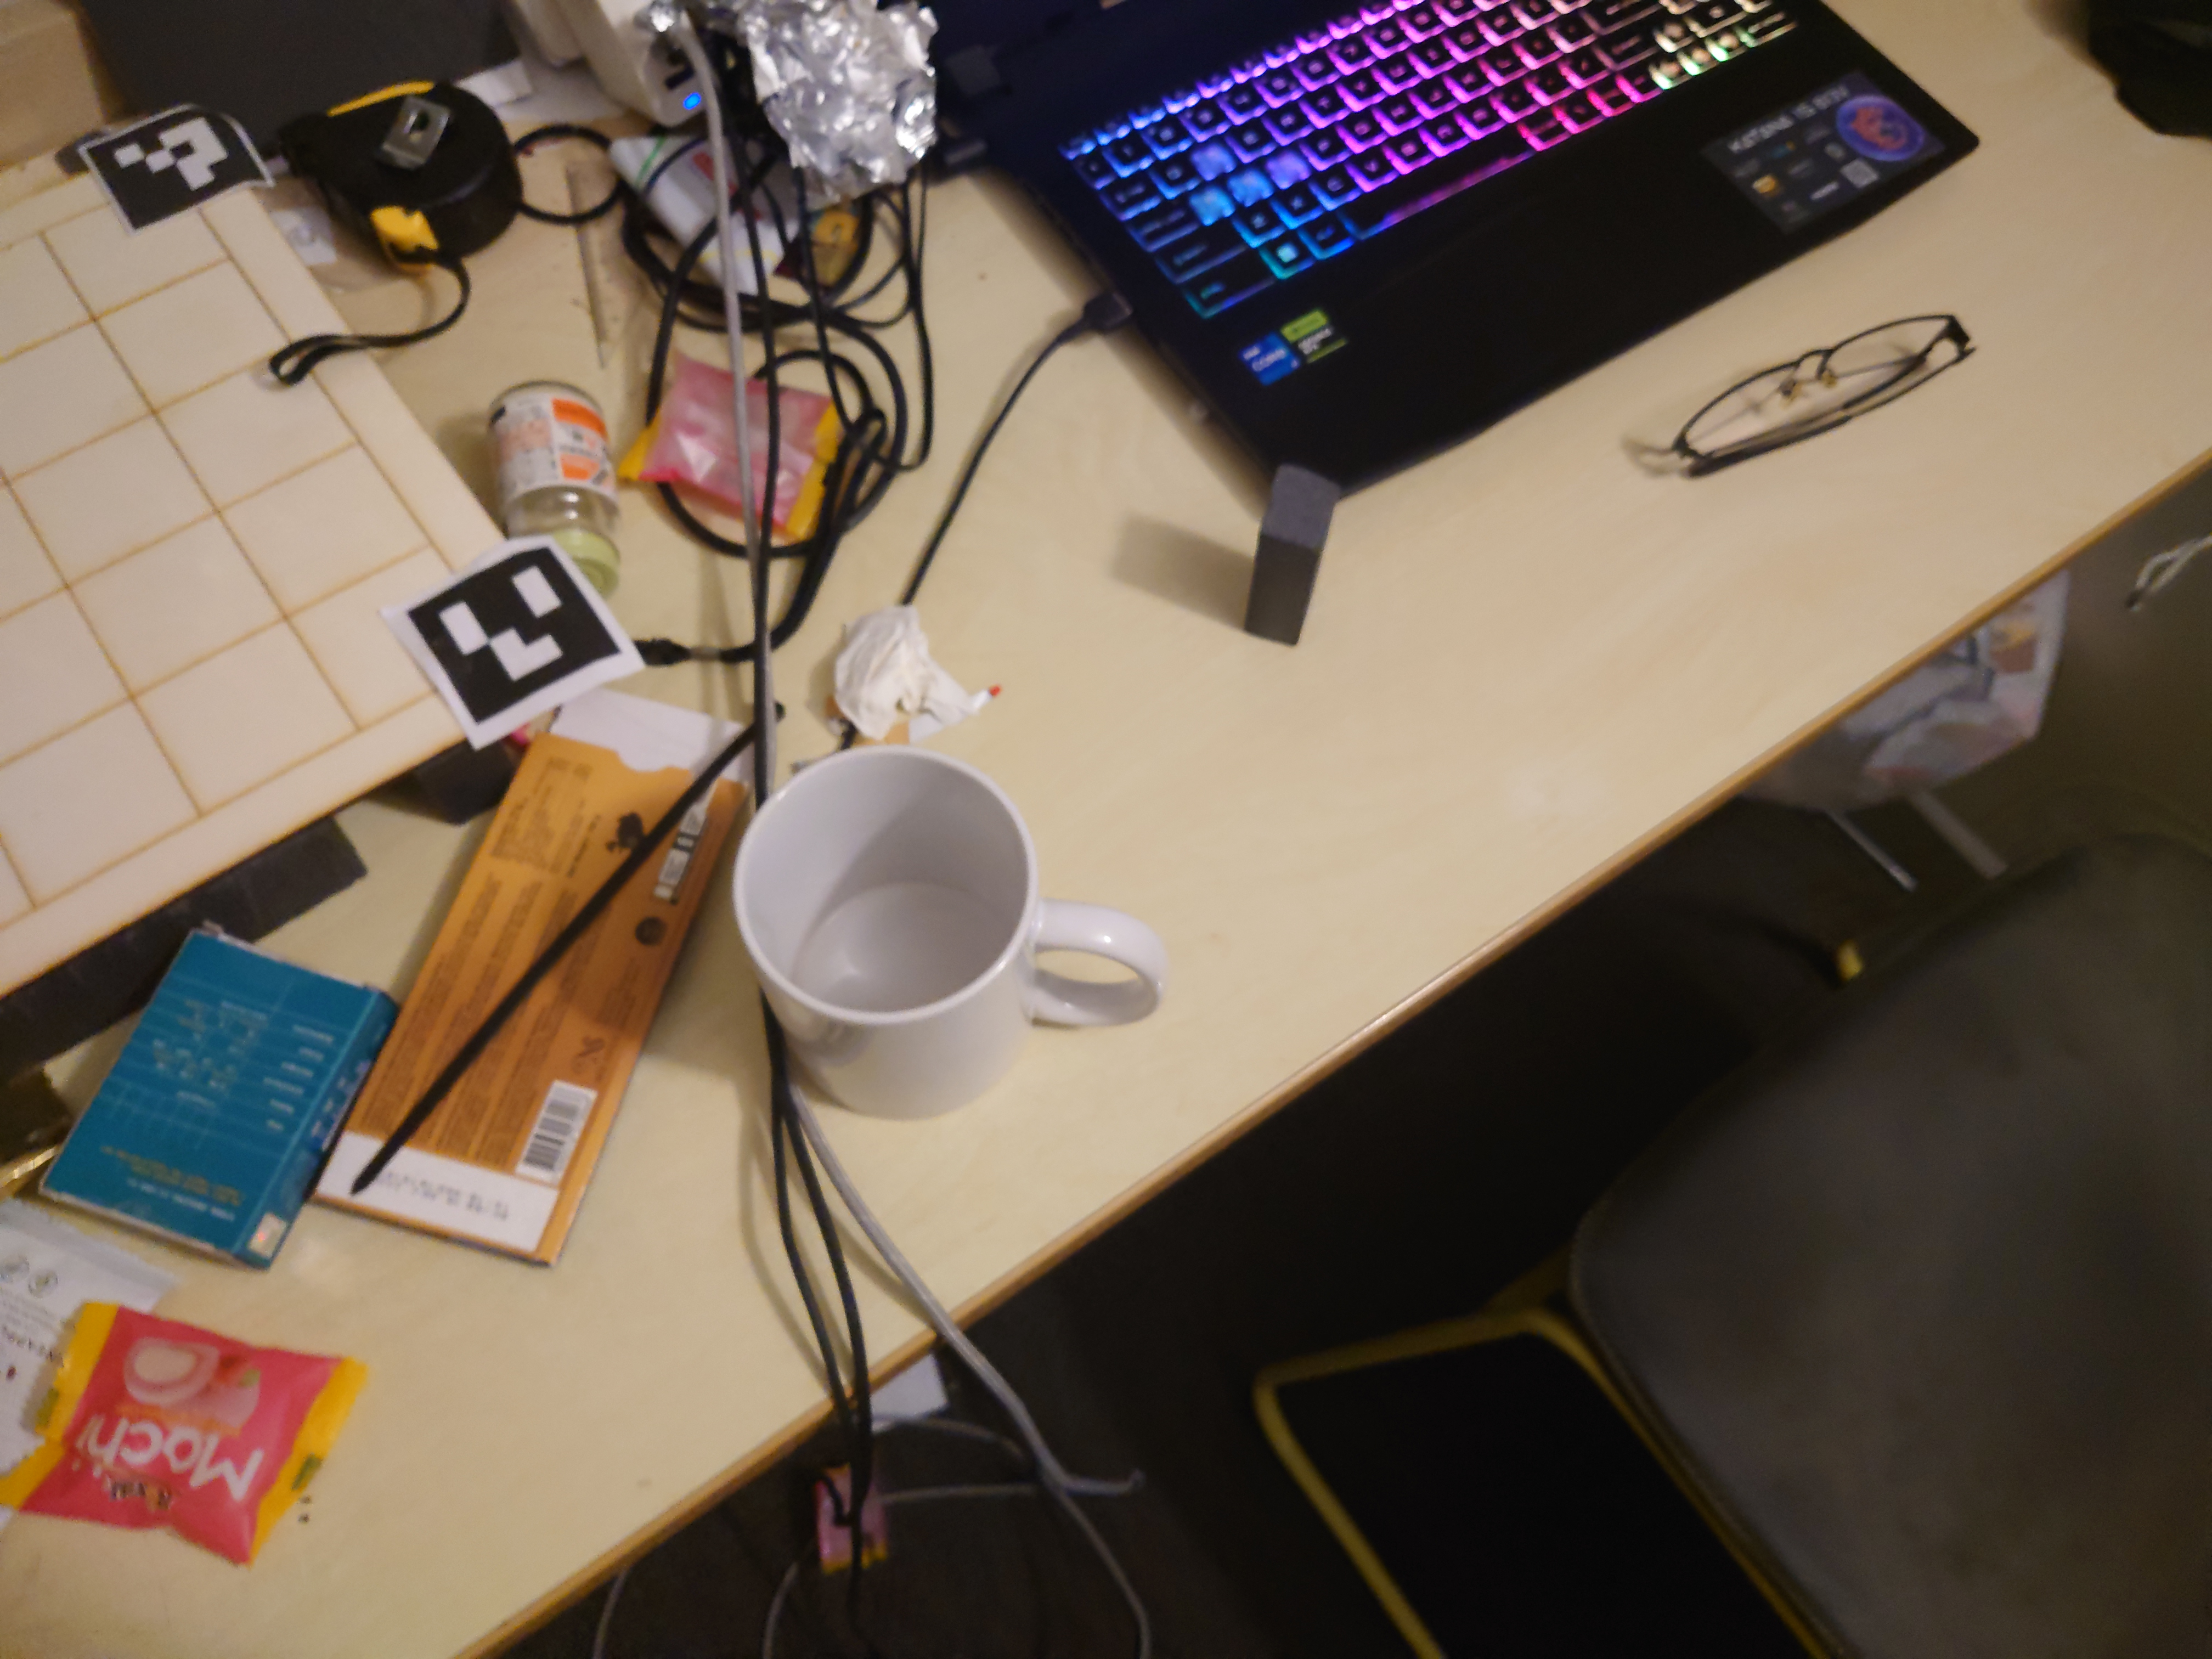cup: (723, 744, 1172, 1121)
target: (1240, 455, 1338, 655)
